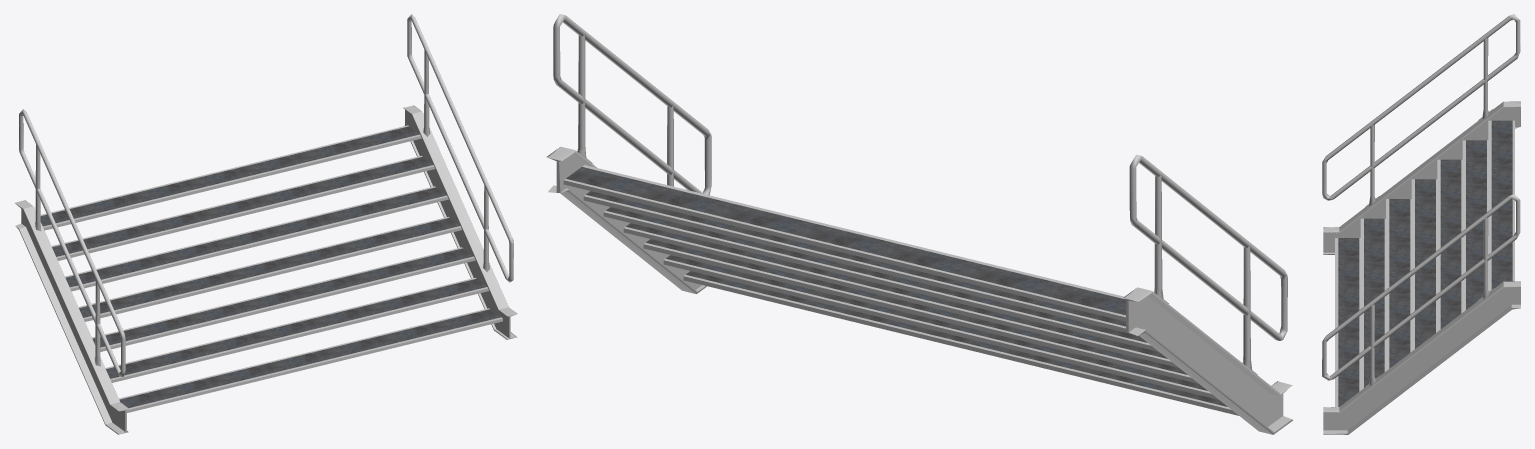
File: SM_StaircaseHalf_01.fbx
The picture shows the model from 3 angles, left to right: view 1: azimuth 30°, elevation 25°; view 2: azimuth 150°, elevation 25°; view 3: azimuth 270°, elevation 25°; orthographic projection. The views are drawn at different scales.
Parts seen in each view (by area): view 1: SM_StaircaseHalf_01_LOD0; view 2: SM_StaircaseHalf_01_LOD0; view 3: SM_StaircaseHalf_01_LOD0.
Boxes of the visible parts, x1=… form: SM_StaircaseHalf_01_LOD0: x1=15, y1=14, x2=517, y2=434; SM_StaircaseHalf_01_LOD0: x1=547, y1=14, x2=1292, y2=434; SM_StaircaseHalf_01_LOD0: x1=1322, y1=14, x2=1520, y2=434.
Size of the model in its own units: 511 by 232 by 308.
